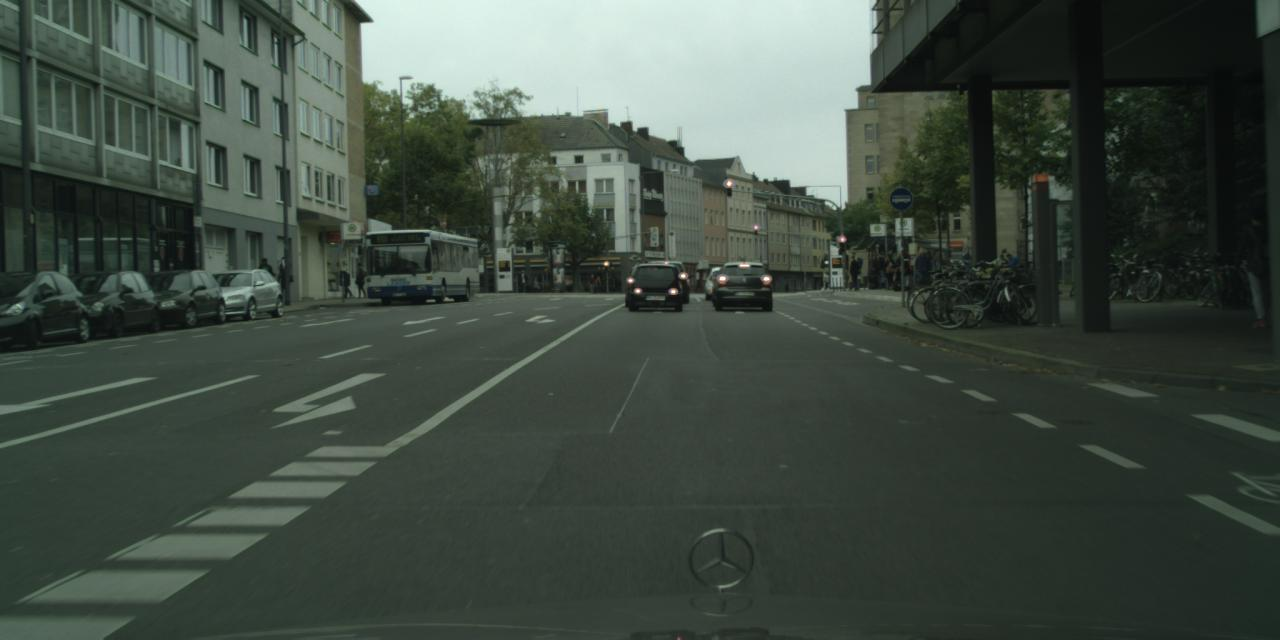ped: (1238, 206, 1278, 326), (252, 257, 274, 310), (275, 256, 294, 302), (914, 245, 932, 292), (929, 250, 945, 288), (336, 260, 352, 298), (958, 247, 973, 285), (353, 262, 368, 298), (873, 253, 888, 288), (883, 254, 898, 288), (846, 256, 860, 290), (851, 252, 863, 290), (904, 252, 913, 293), (891, 252, 900, 290), (1006, 252, 1016, 278), (998, 254, 1008, 279), (518, 270, 526, 292), (587, 274, 594, 292), (594, 276, 600, 292), (532, 276, 538, 292), (848, 275, 852, 289), (851, 258, 852, 259)
